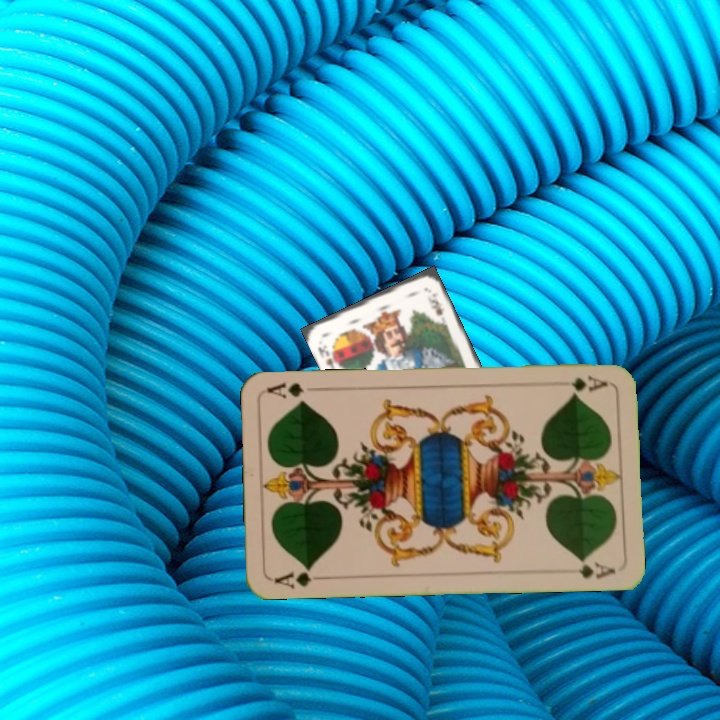GA: (270, 563, 329, 590), (567, 371, 614, 397)
SK: (314, 341, 344, 375)
